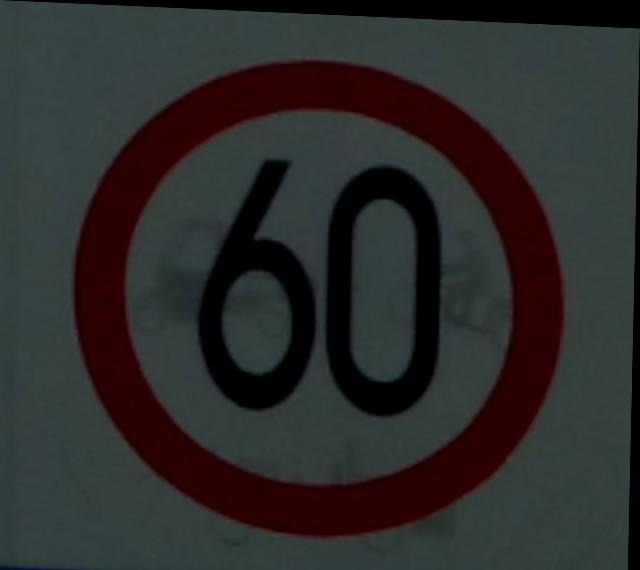limit60: (58, 40, 578, 560)
